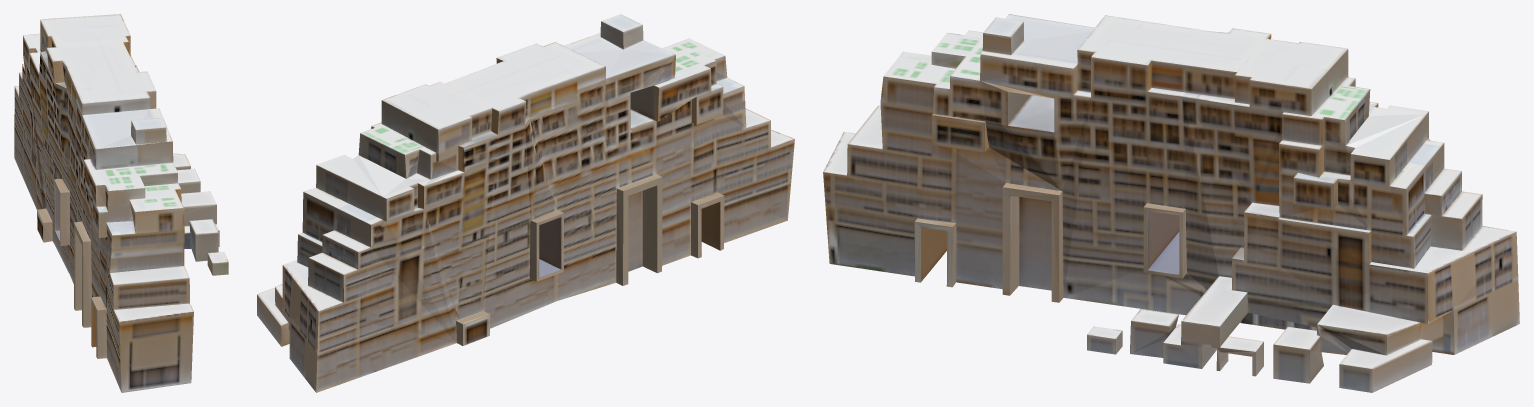
The picture shows the model from 3 angles, left to right: view 1: azimuth 30°, elevation 25°; view 2: azimuth 150°, elevation 25°; view 3: azimuth 270°, elevation 25°; orthographic projection. The views are drawn at different scales.
Parts seen in each view (by area): view 1: 504_001; view 2: 504_001; view 3: 504_001.
Part boxes in pixels (box(x1,y1,x2,y2)): 504_001: box(14, 14, 228, 392); 504_001: box(257, 14, 794, 392); 504_001: box(823, 14, 1519, 392).
Size of the model in its own units: 97.13 by 68.15 by 169.
1 material, 1 textured.
